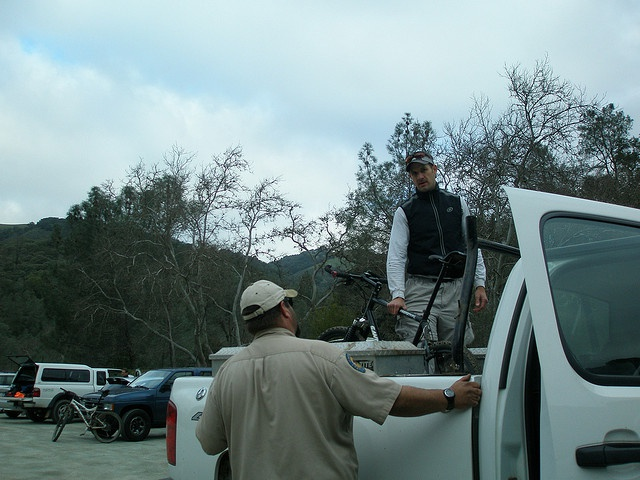non-vehicle: (314, 250, 482, 374), (49, 385, 124, 444)
